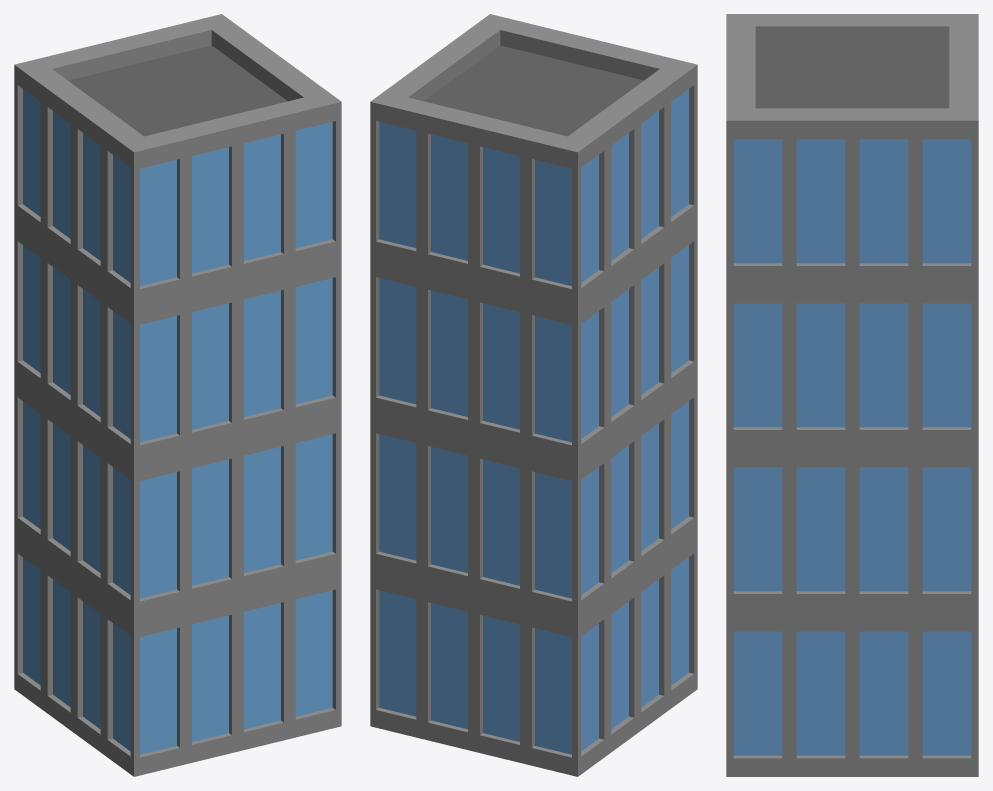
3 views of the same model, side by side, from view 1: azimuth 30°, elevation 25°; view 2: azimuth 150°, elevation 25°; view 3: azimuth 270°, elevation 25° (orthographic). The views are drawn at different scales.
Parts seen in each view (by area): view 1: Cube.001; view 2: Cube.001; view 3: Cube.001.
Boxes of the visible parts, x1,y1,x2,y2 form: Cube.001: (14, 14, 341, 776); Cube.001: (370, 14, 697, 776); Cube.001: (726, 14, 978, 776).
Size of the model in its own units: 966 by 2777 by 966.
